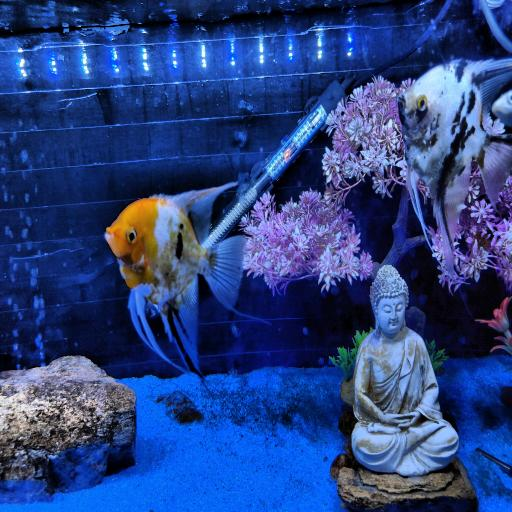Fish: (105, 183, 245, 378), (398, 59, 511, 276), (492, 90, 511, 127)
